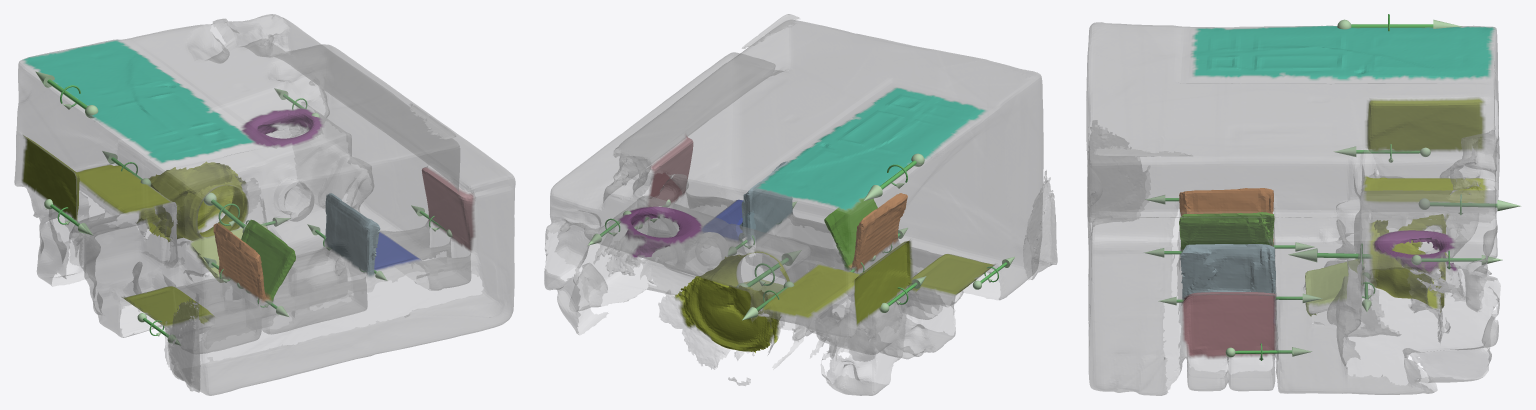
The model's file is scene_00103_02-articulation.compressed.gltf.
3 views of the same model, side by side, from view 1: azimuth 30°, elevation 25°; view 2: azimuth 150°, elevation 25°; view 3: azimuth 270°, elevation 25° (orthographic). The views are drawn at different scales.
Size of the model in its own units: 2.77 by 1.86 by 2.94.
